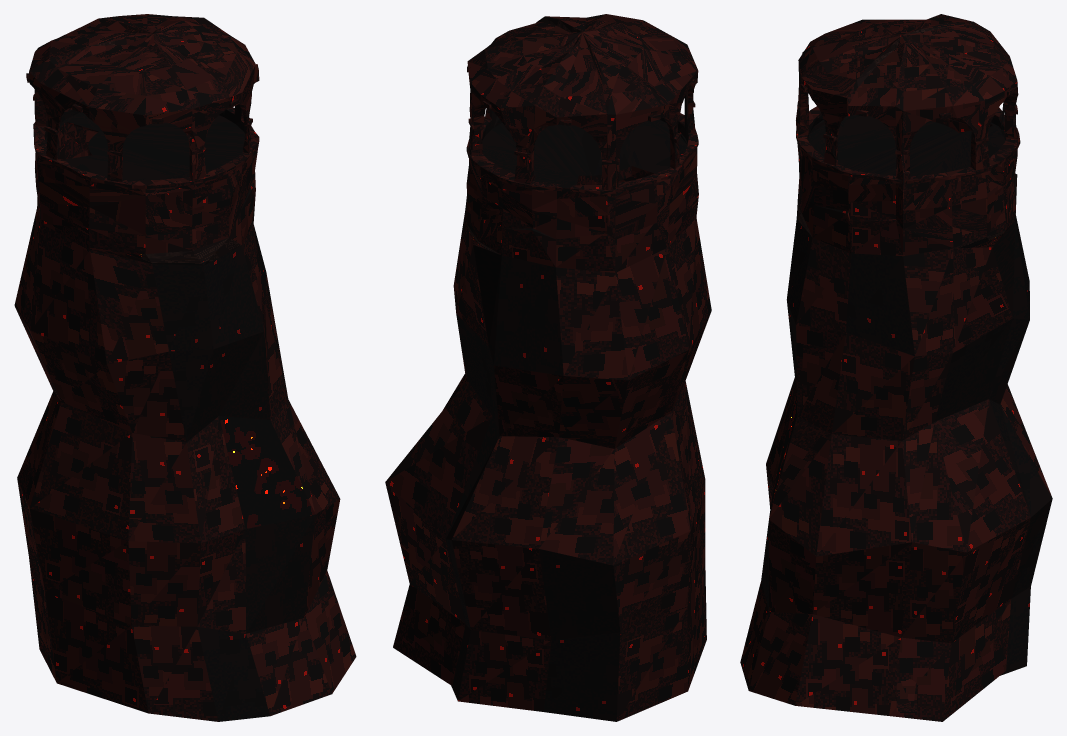
File: tower_hollow.glb
The picture shows the model from 3 angles, left to right: view 1: azimuth 30°, elevation 25°; view 2: azimuth 150°, elevation 25°; view 3: azimuth 270°, elevation 25°; orthographic projection. The views are drawn at different scales.
Visible parts, largest first — view 1: TowerRock; view 2: TowerRock; view 3: TowerRock.
Part boxes in pixels (x1,y1,x2,y2): TowerRock: (14,14,356,721); TowerRock: (385,14,711,721); TowerRock: (740,14,1052,721).
Size of what is drawn, in the model's own units: 22.05 by 47.46 by 21.98.
Materials: 1 (1 with a texture image).
